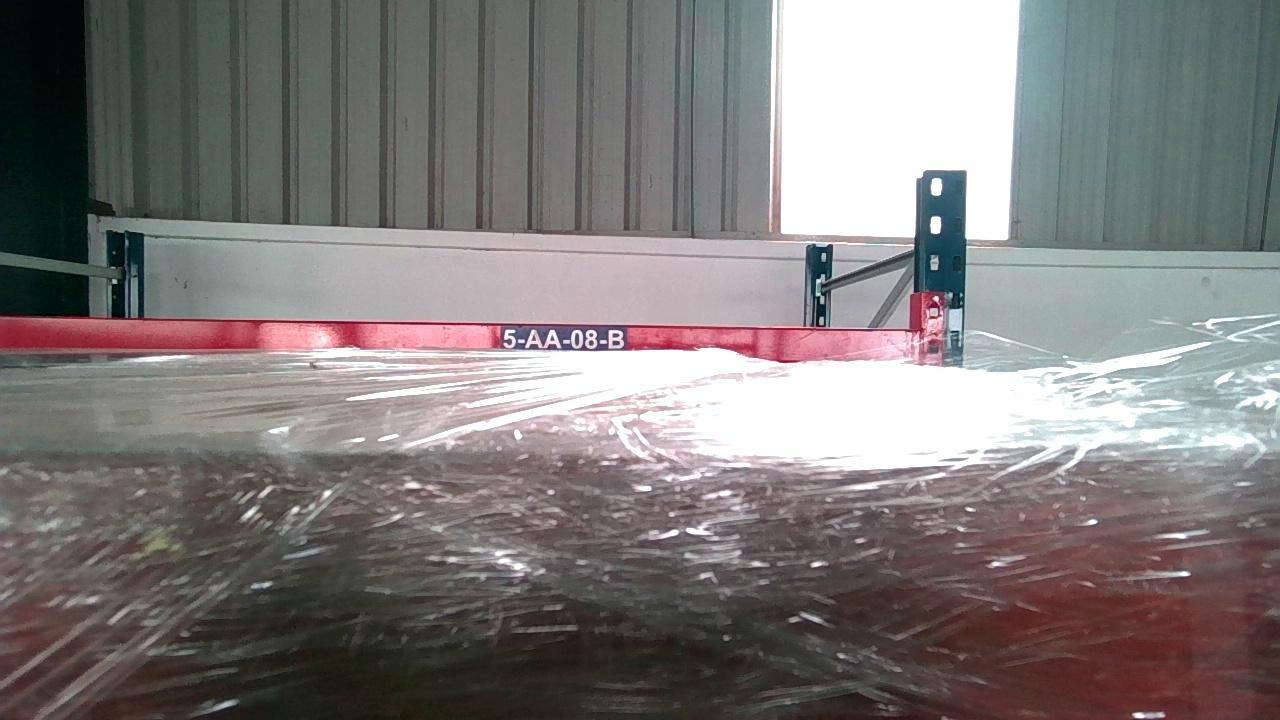h_rack: (0, 315, 916, 364)
